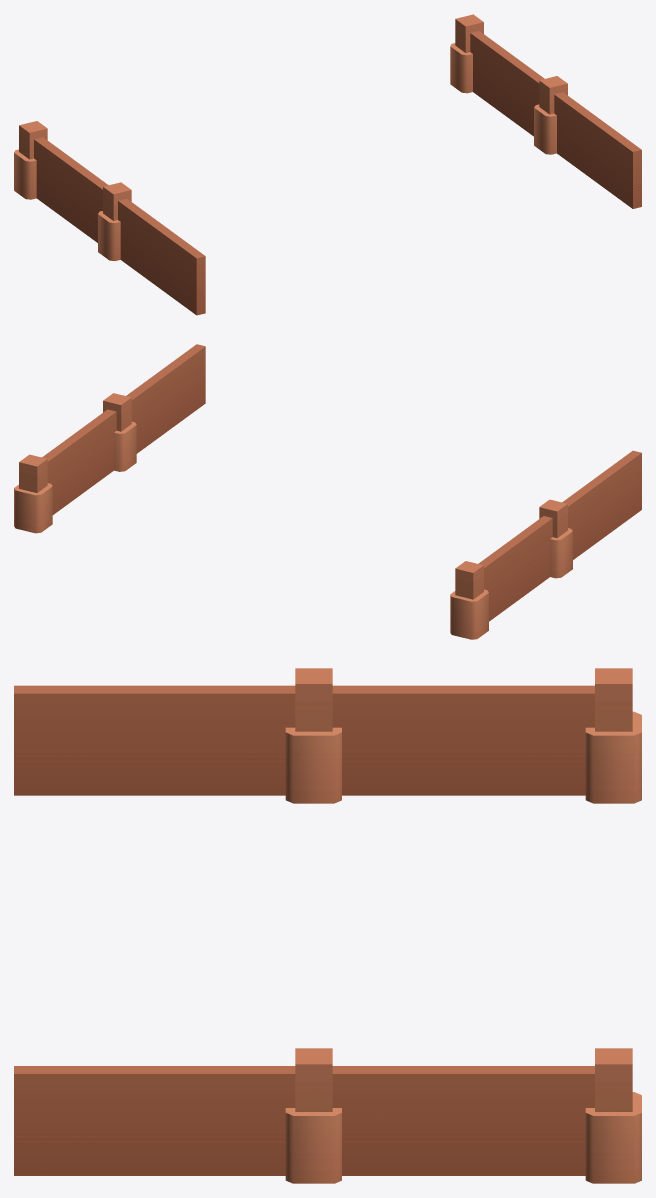
3 views of the same model, one above another, from view 1: azimuth 30°, elevation 25°; view 2: azimuth 150°, elevation 25°; view 3: azimuth 270°, elevation 25° (orthographic). The views are drawn at different scales.
Visible parts, largest first — view 1: fence-low; view 2: fence-low; view 3: fence-low.
Boxes of the visible parts, box(x1,y1,x2,y2) form: fence-low: box(14, 14, 641, 315); fence-low: box(14, 344, 641, 639); fence-low: box(14, 668, 641, 1183).
Size of the model in its own units: 11.47 by 1.53 by 7.54.
1 material, 1 textured.
